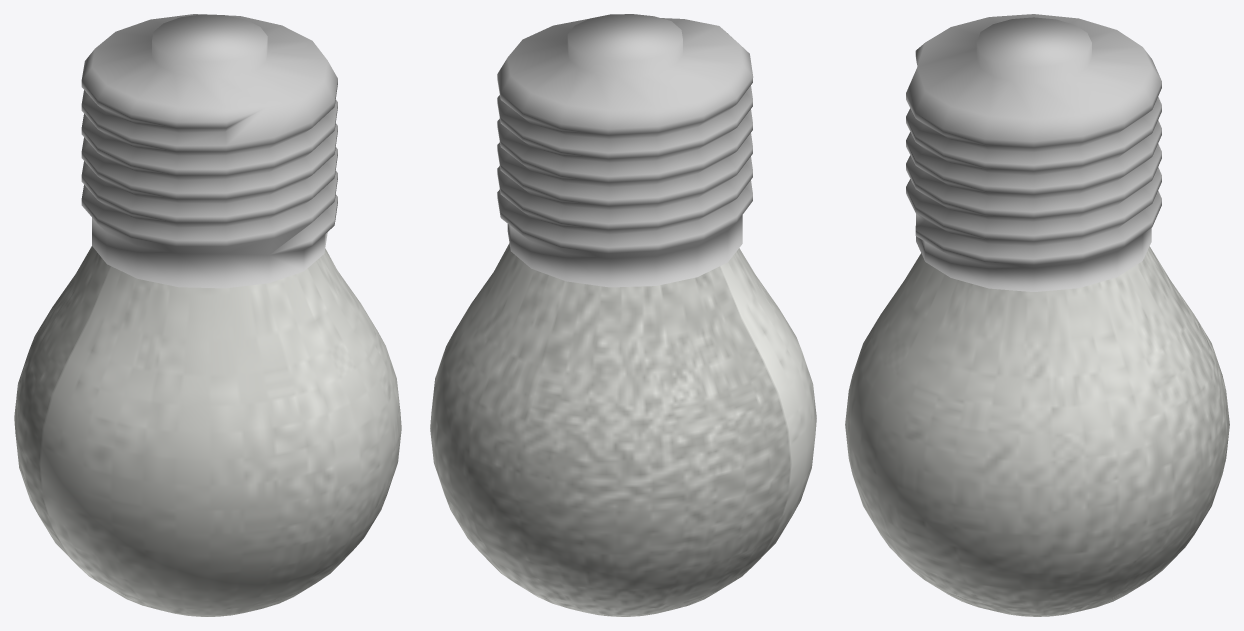
Rendered from lightbulb1.fbx.
The picture shows the model from 3 angles, left to right: view 1: azimuth 30°, elevation 25°; view 2: azimuth 150°, elevation 25°; view 3: azimuth 270°, elevation 25°; orthographic projection.
Visible parts, largest first — view 1: Sphere, Circle; view 2: Sphere, Circle; view 3: Sphere, Circle.
Part boxes in pixels (x1,y1,x2,y2): Sphere: (14,246,401,616); Circle: (81,14,337,288); Sphere: (430,243,816,616); Circle: (497,14,753,287); Sphere: (845,246,1229,616); Circle: (906,14,1161,291).
Size of the model in its own units: 327 by 523 by 327.
